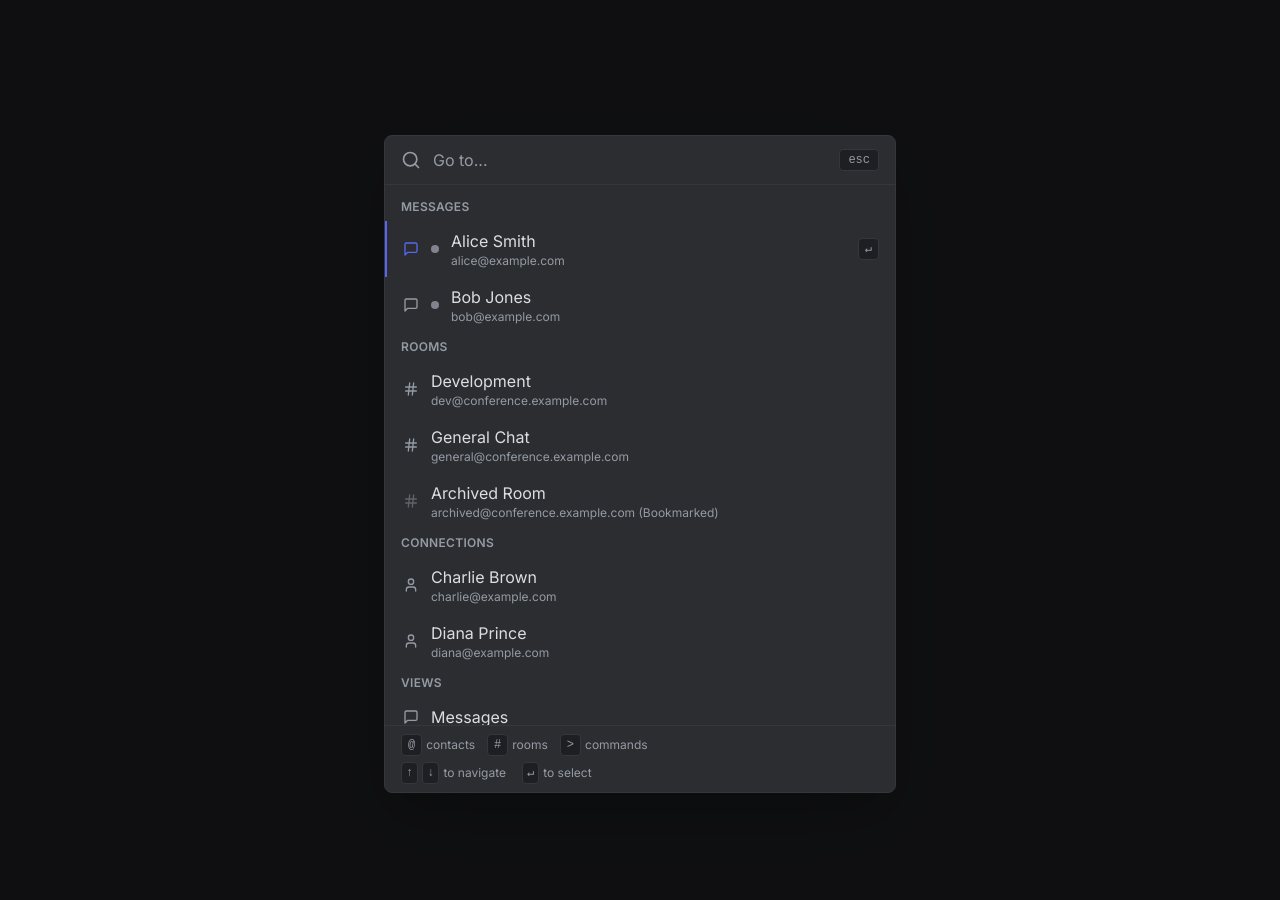
Scenario: CommandPalette › Search Filtering › should filter items by label
Type "alice" into the field with placeholder "Go to..." at (630, 160), box [433,148,827,172]
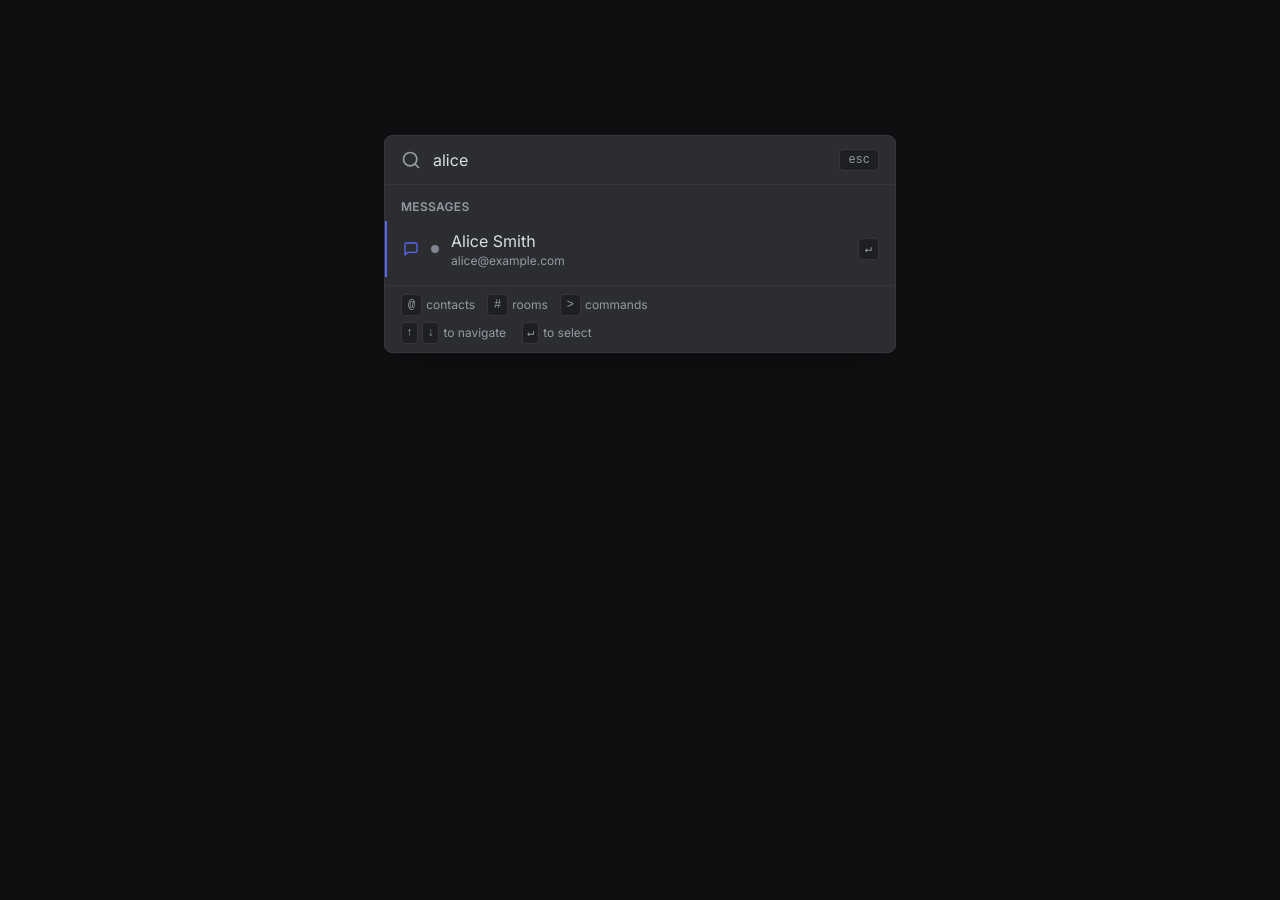
Expected: the text "Alice Smith" is shown, [451,231,536,251]
Now the button "Bob Jones" is gone
